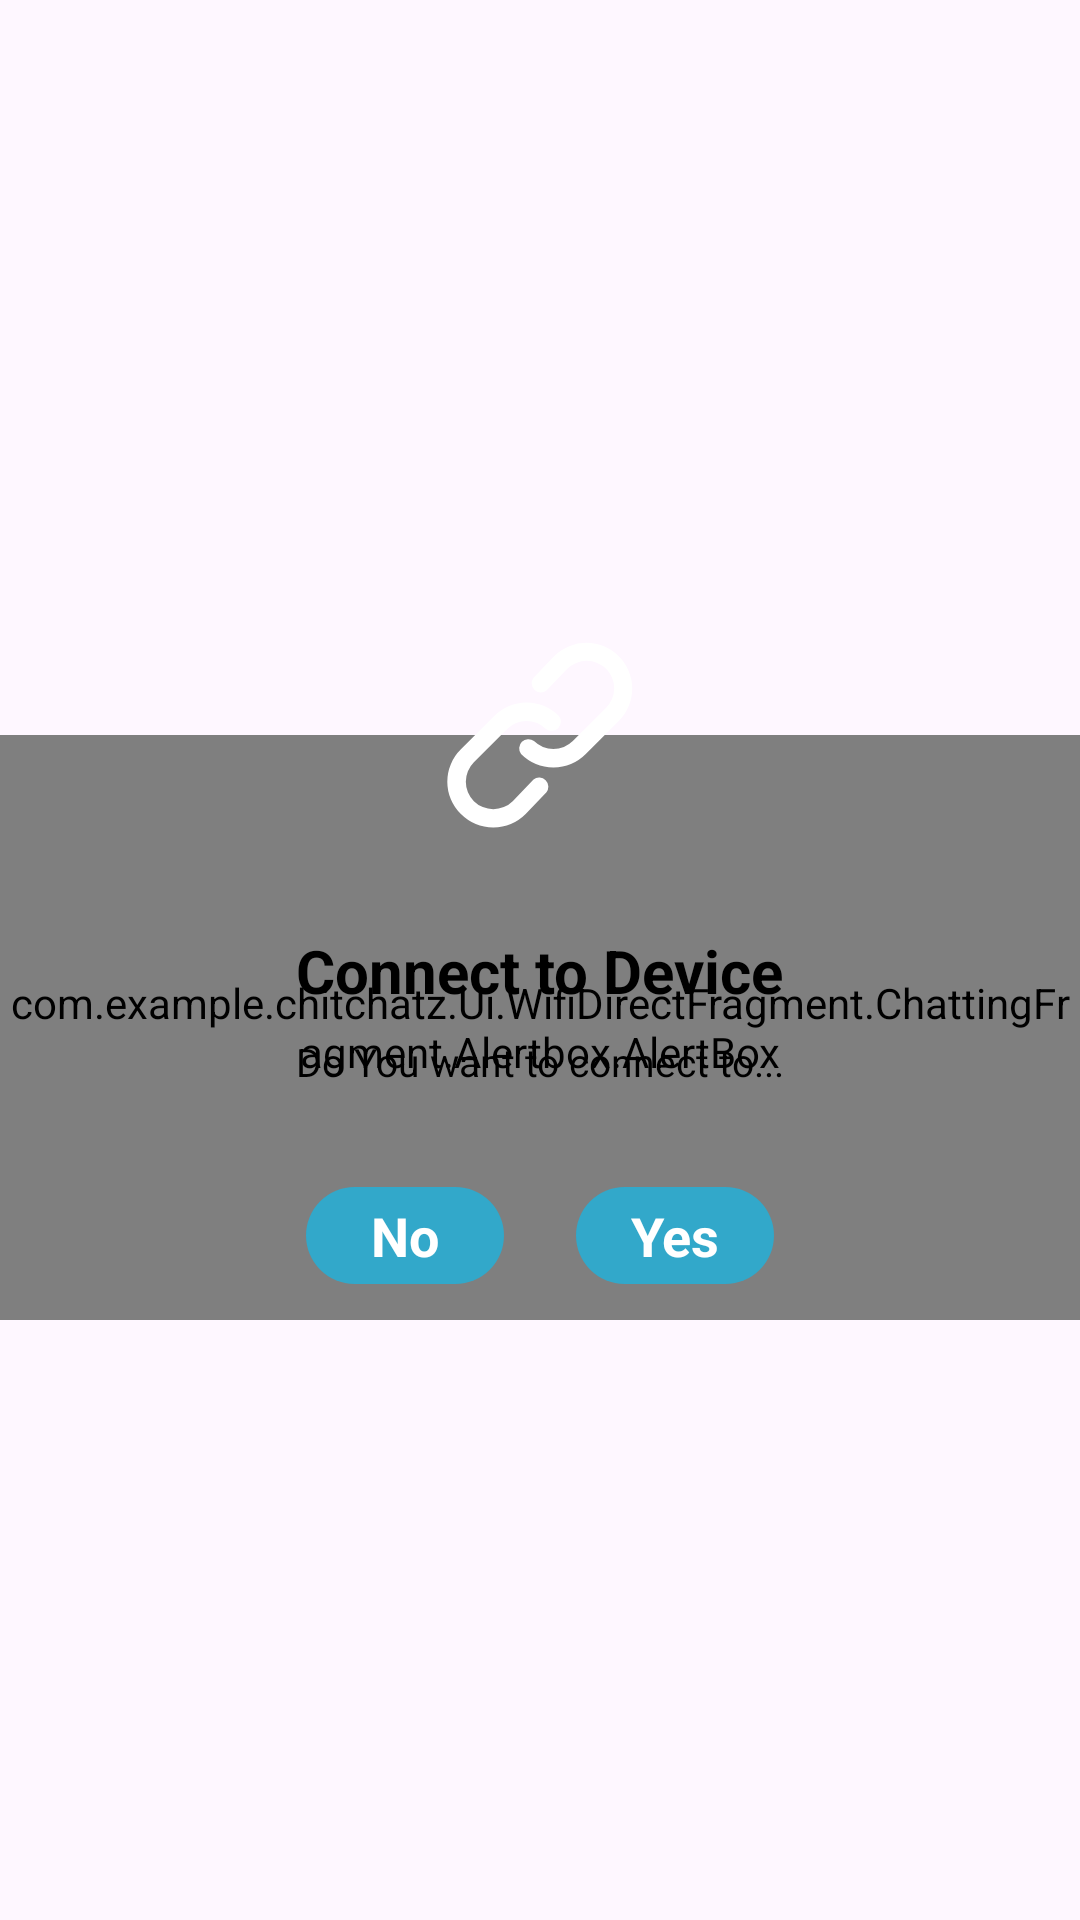

Named icons in this screenshot (1080 × 1920) and their centers, (x,y):
link: (540,735)
